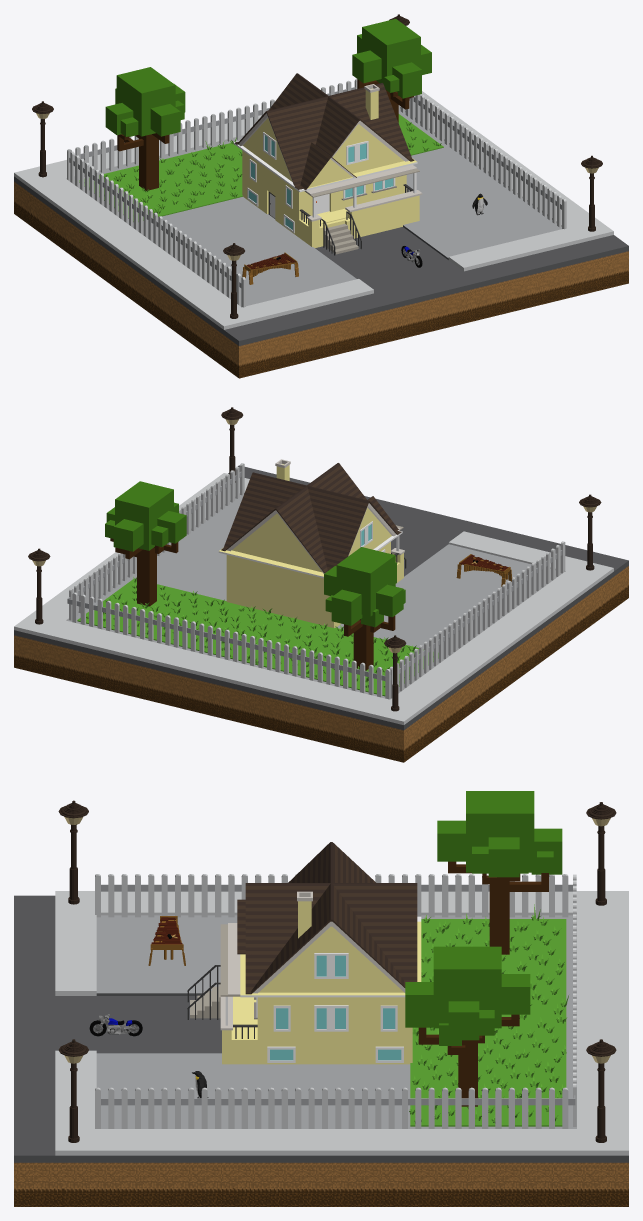
3 views of the same model, one above another, from view 1: azimuth 30°, elevation 25°; view 2: azimuth 150°, elevation 25°; view 3: azimuth 270°, elevation 25° (orthographic). The views are drawn at different scales.
Parts seen in each view (by area): view 1: Cube.004, Cube.1555, OBJRANDOM_MARIMBA; view 2: Cube.004, Cube.1555, OBJRANDOM_MARIMBA; view 3: Cube.004, Cube.1555, OBJRANDOM_MARIMBA, VEHICLES_CHOPPER.
Part boxes in pixels (x1,y1,x2,y2): Cube.004: [14, 14, 628, 378]; Cube.1555: [233, 73, 422, 255]; OBJRANDOM_MARIMBA: [242, 252, 298, 284]; Cube.004: [14, 407, 628, 762]; Cube.1555: [218, 459, 406, 627]; OBJRANDOM_MARIMBA: [456, 554, 512, 586]; Cube.004: [14, 791, 628, 1206]; Cube.1555: [187, 842, 421, 1064]; OBJRANDOM_MARIMBA: [148, 916, 185, 965]; VEHICLES_CHOPPER: [89, 1014, 142, 1036].
Size of the model in its own units: 4000 by 1752 by 4000.
Materials: 35 (3 with a texture image).
